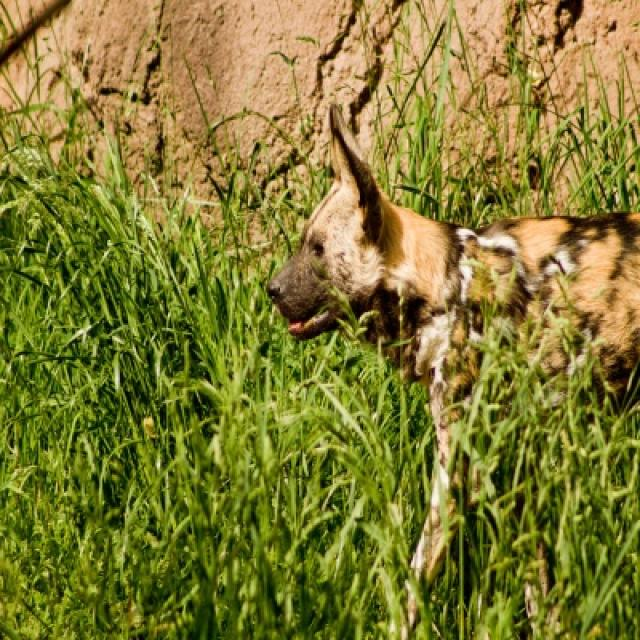hyena: (266, 106, 638, 565)
